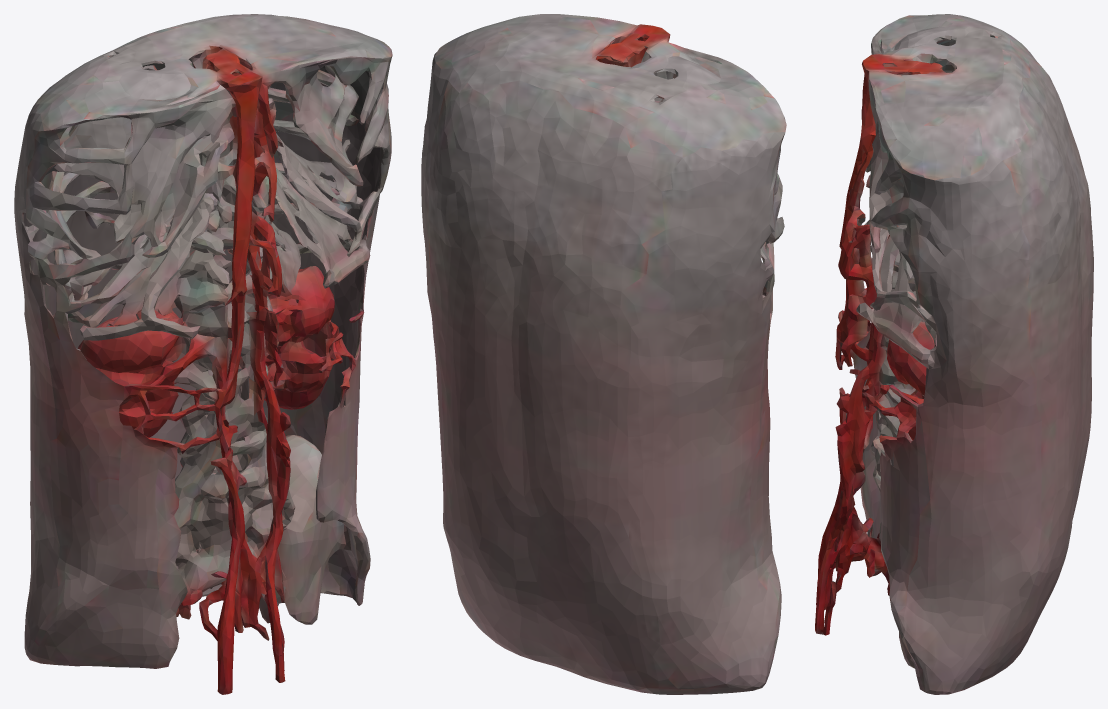
The model's file is prevention-kidney-stone.glb.
3 views of the same model, side by side, from view 1: azimuth 30°, elevation 25°; view 2: azimuth 150°, elevation 25°; view 3: azimuth 270°, elevation 25° (orthographic). The views are drawn at different scales.
Parts seen in each view (by area): view 1: Kidney; view 2: Kidney; view 3: Kidney.
Boxes of the visible parts, bbox=[...] form: Kidney: bbox=[14, 14, 392, 694]; Kidney: bbox=[421, 14, 786, 694]; Kidney: bbox=[815, 14, 1093, 694].
Size of the model in its own units: 0.6244 by 1 by 0.4464.
1 material, 1 textured.
